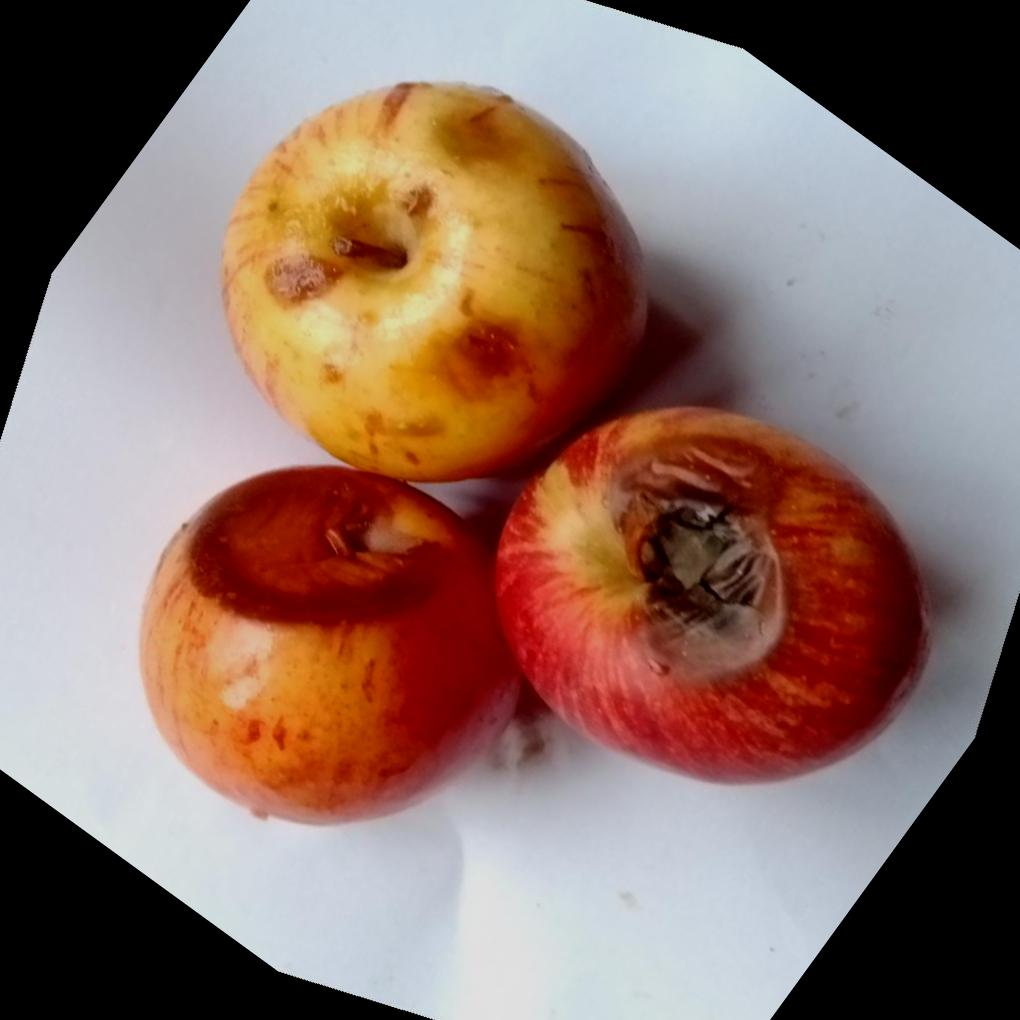FreshOrange: (139, 84, 927, 828)
